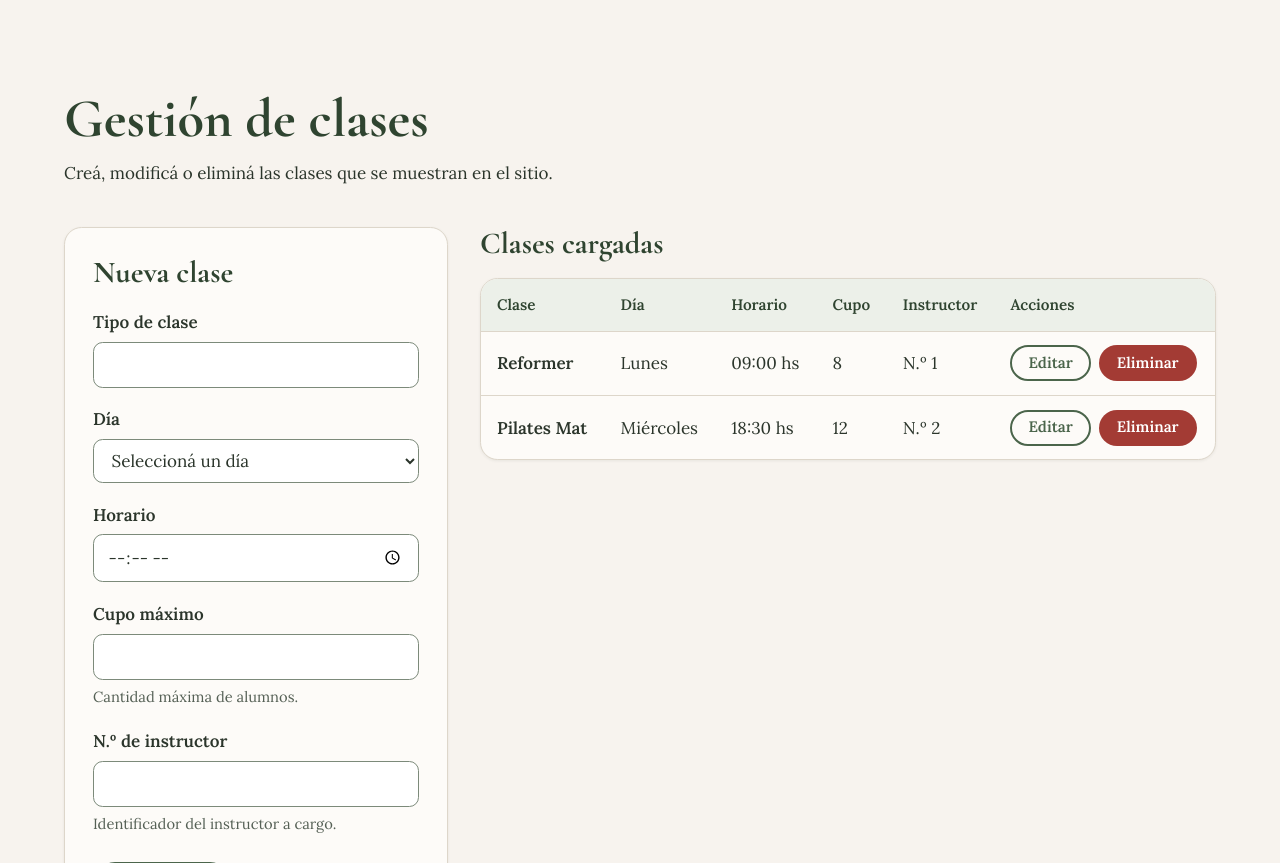
Test case: AdminClasesPage › elimina la clase al confirmar y notifica el éxito
Expected: the table is shown, left=481, top=279, right=1215, bottom=459
Click the button with aria-label "Eliminar Reformer".
click(1148, 363)  # box left=1099, top=345, right=1197, bottom=381
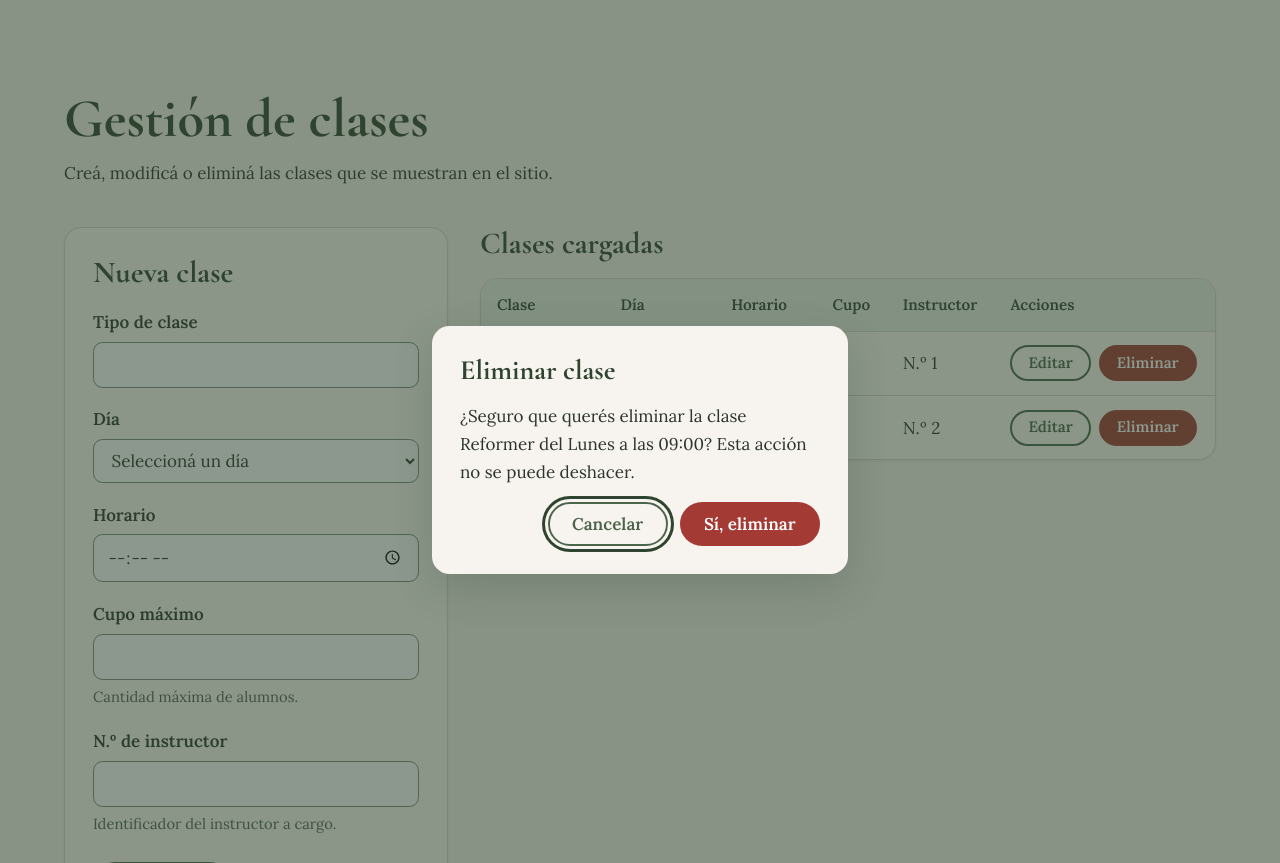
Click the button "Sí, eliminar".
click(750, 524)  # box left=680, top=502, right=820, bottom=546
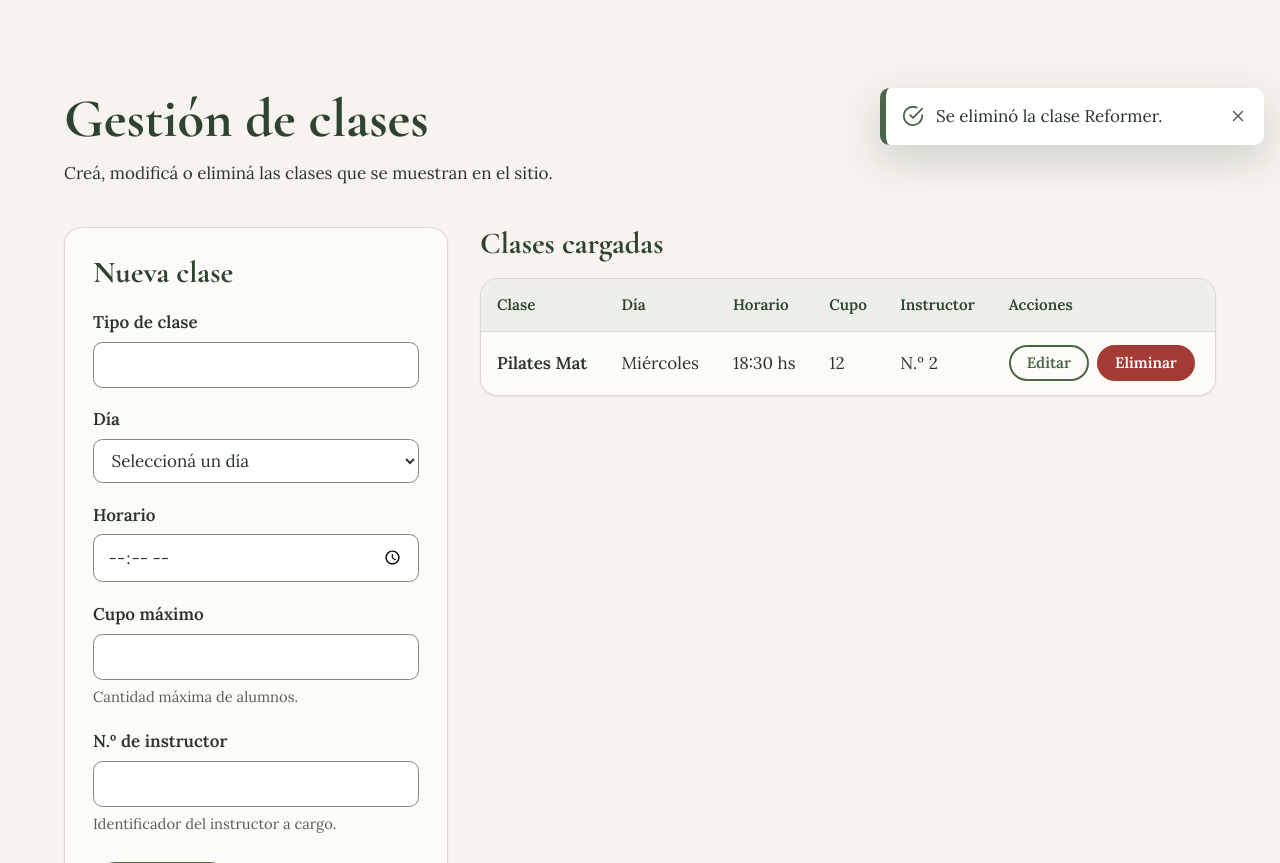
Expected: the text "Se eliminó la clase Reformer." is shown, left=936, top=105, right=1162, bottom=127
Expected: the dialog is gone
